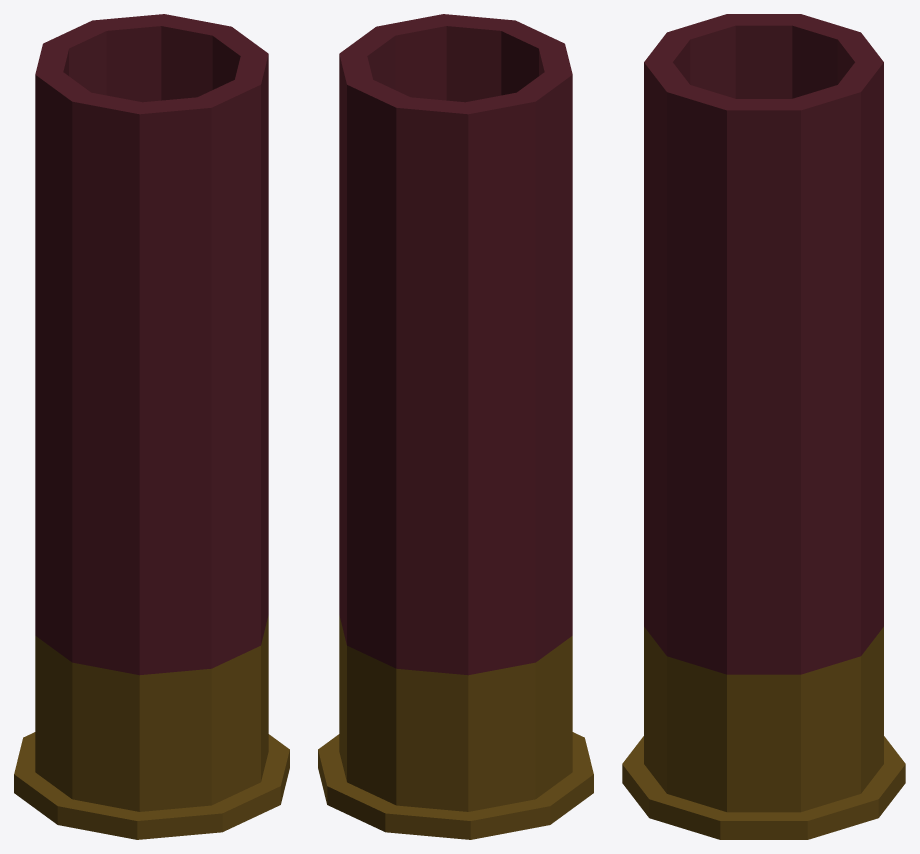
File: Shotgun Empty Shell.glb
3 renders of one model, left to right at view 1: azimuth 30°, elevation 25°; view 2: azimuth 150°, elevation 25°; view 3: azimuth 270°, elevation 25°, orthographic.
Parts seen in each view (by area): view 1: Shotgun Empty Shell; view 2: Shotgun Empty Shell; view 3: Shotgun Empty Shell.
Part boxes in pixels (x1,y1,x2,y2): Shotgun Empty Shell: [14, 14, 289, 839]; Shotgun Empty Shell: [318, 14, 593, 839]; Shotgun Empty Shell: [622, 14, 905, 839].
Bounding box in the file's own units: 2.84 × 8.36 × 2.98.
